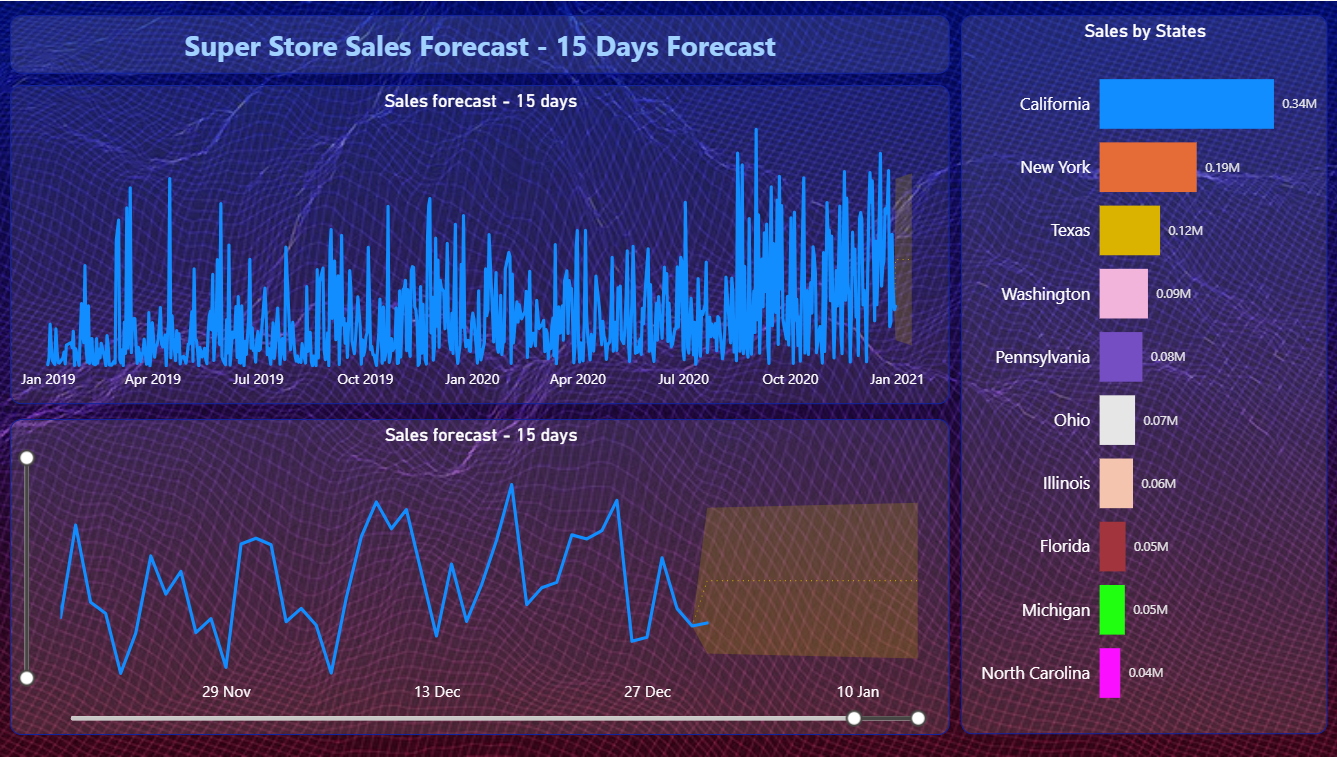

This screenshot's page, from the dashboard's own definition file:
{"tool":"powerbi","page":{"name":"Page 2","canvas":[1280,720],"ordinal":1},"visuals":[{"type":"lineChart","title":"Sales forecast - 15 days","fields":{"Y":["Sum(Sheet1.Sales)"],"Category":["Sheet1.Order Date"]},"box":[11.6,80.3,894.8,303.7],"z":0},{"type":"lineChart","title":"Sales forecast - 15 days","fields":{"Y":["Sum(Sheet1.Sales)"],"Category":["Sheet1.Order Date"]},"box":[11.4,391.4,895.2,301],"z":1000},{"type":"clusteredBarChart","title":"Sales by States","fields":{"Category":["Sheet1.State"],"Y":["Sum(Sheet1.Sales)"]},"box":[917.4,13.7,348.8,685.3],"z":2000},{"type":"textbox","box":[11,13.7,895.5,56.3],"z":3000}]}

Visuals, with their boxes in screenshot pixels (x1, y1, x2, y2), scaled from the page's 1280x720 canvas onto the 1337x757 screenshot:
"Sales forecast - 15 days" lineChart: pyautogui.locateOnScreen(12, 84, 947, 404)
"Sales forecast - 15 days" lineChart: pyautogui.locateOnScreen(12, 412, 947, 728)
"Sales by States" clusteredBarChart: pyautogui.locateOnScreen(958, 14, 1323, 735)
textbox: pyautogui.locateOnScreen(11, 14, 947, 74)
